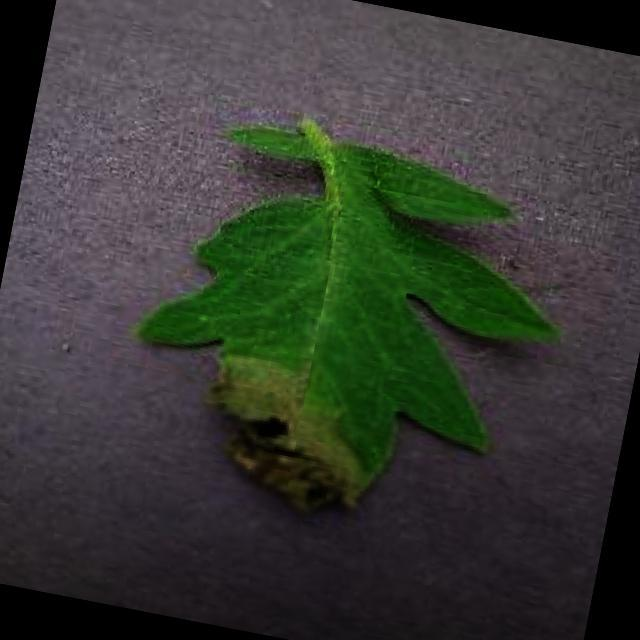Tomato late blight leaf: (113, 110, 583, 554)
